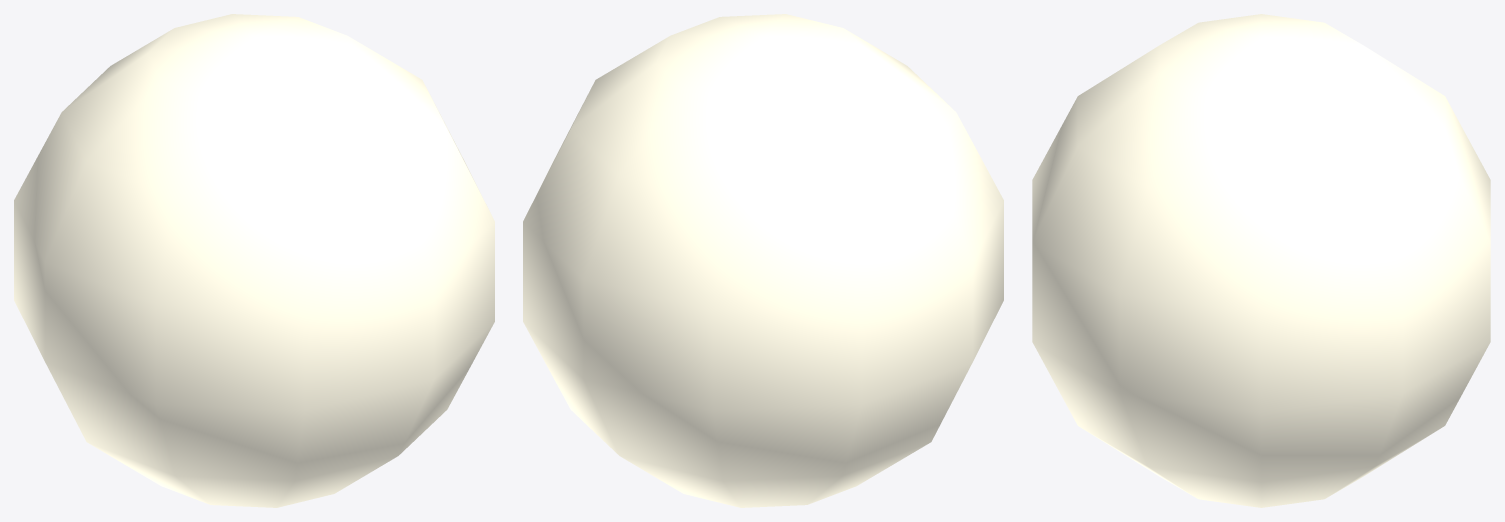
Rendered from ville_lm_orbe.glb.
3 renders of one model, left to right at view 1: azimuth 30°, elevation 25°; view 2: azimuth 150°, elevation 25°; view 3: azimuth 270°, elevation 25°, orthographic.
Parts seen in each view (by area): view 1: lm_orbe; view 2: lm_orbe; view 3: lm_orbe.
Boxes of the visible parts, bbox=[...] form: lm_orbe: bbox=[14, 14, 494, 507]; lm_orbe: bbox=[523, 14, 1003, 507]; lm_orbe: bbox=[1032, 14, 1490, 507].
Size of the model in its own units: 1.56 by 1.6 by 1.48.
